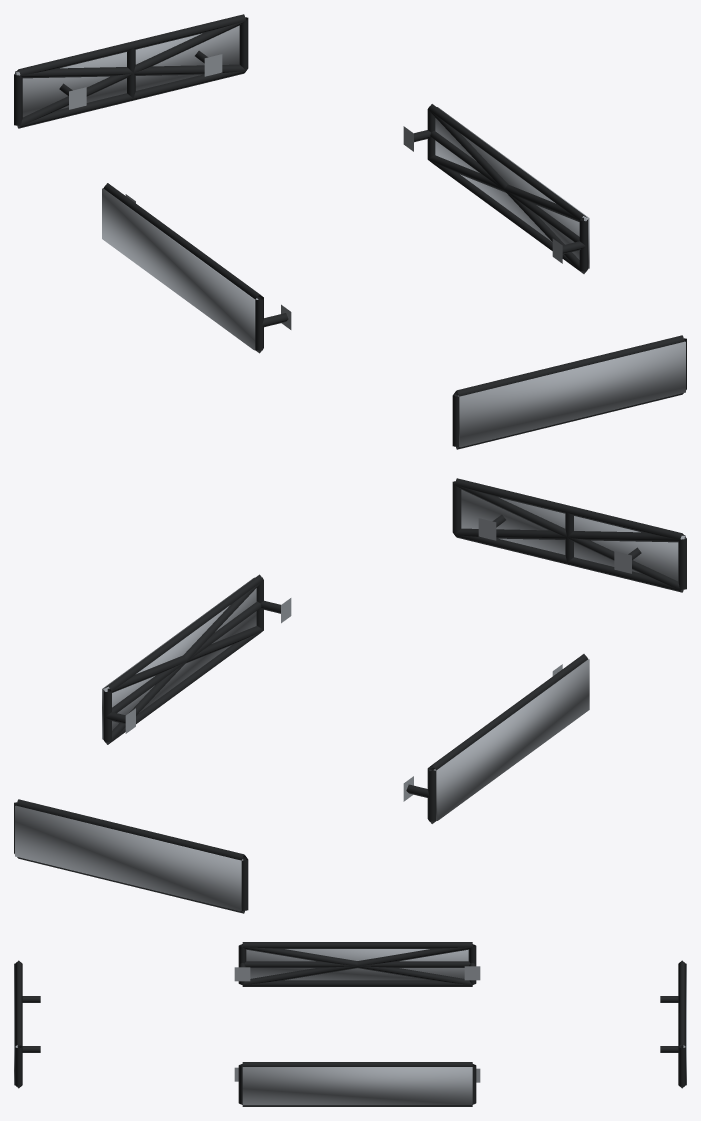
Rendered from hayase_cicatriz_protecao.glb.
3 views of the same model, one above another, from view 1: azimuth 30°, elevation 25°; view 2: azimuth 150°, elevation 25°; view 3: azimuth 270°, elevation 25° (orthographic). The views are drawn at different scales.
Parts seen in each view (by area): view 1: Protection_front_Level3_Details, Protection_left_Level3_Details, Protection_rear_Level1_Details, Protection_rear_Level3_Details, Protection_right_Level1_Details, Protection_rear_Level2_Details, Protection_right_Level2_Details, Protection_right_Level3_Details, Protection_front_Level1_Details, Protection_left_Level1_Details; view 2: Protection_rear_Level3_Details, Protection_left_Level3_Details, Protection_front_Level1_Details, Protection_front_Level3_Details, Protection_right_Level1_Details, Protection_front_Level2_Details, Protection_right_Level2_Details, Protection_right_Level3_Details, Protection_rear_Level1_Details, Protection_left_Level1_Details; view 3: Protection_right_Level3_Details, Protection_left_Level2_Details, Protection_left_Level1_Details, Protection_left_Level3_Details, Protection_right_Level1_Details, Protection_rear_Level1_Details, Protection_front_Level1_Details.
Boxes of the visible parts, x1,y1,x2,y2 form: Protection_front_Level3_Details: (457, 341, 685, 447); Protection_left_Level3_Details: (102, 188, 258, 350); Protection_rear_Level1_Details: (14, 14, 248, 128); Protection_rear_Level3_Details: (15, 25, 239, 117); Protection_right_Level1_Details: (403, 104, 588, 273); Protection_rear_Level2_Details: (16, 21, 245, 127); Protection_right_Level2_Details: (428, 110, 587, 273); Protection_right_Level3_Details: (435, 107, 589, 268); Protection_front_Level1_Details: (452, 335, 686, 449); Protection_left_Level1_Details: (103, 183, 291, 353); Protection_rear_Level3_Details: (15, 805, 243, 911); Protection_left_Level3_Details: (433, 659, 589, 820); Protection_front_Level1_Details: (452, 478, 686, 592); Protection_front_Level3_Details: (461, 489, 685, 581); Protection_right_Level1_Details: (103, 574, 291, 744); Protection_front_Level2_Details: (455, 485, 684, 591); Protection_right_Level2_Details: (104, 580, 263, 744); Protection_right_Level3_Details: (102, 577, 256, 739); Protection_rear_Level1_Details: (14, 799, 248, 913); Protection_left_Level1_Details: (403, 654, 587, 823); Protection_right_Level3_Details: (242, 1067, 472, 1105); Protection_left_Level2_Details: (242, 944, 472, 985); Protection_left_Level1_Details: (234, 942, 480, 986); Protection_left_Level3_Details: (246, 949, 468, 980); Protection_right_Level1_Details: (234, 1062, 480, 1106); Protection_rear_Level1_Details: (660, 960, 685, 1088); Protection_front_Level1_Details: (15, 960, 40, 1088).
Size of the model in its own units: 2.09 by 0.354 by 4.8.
Materials: 1 (1 with a texture image).
